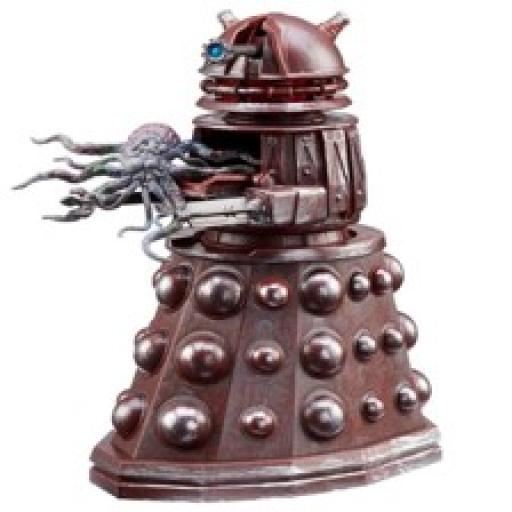dalek: (26, 5, 452, 502)
